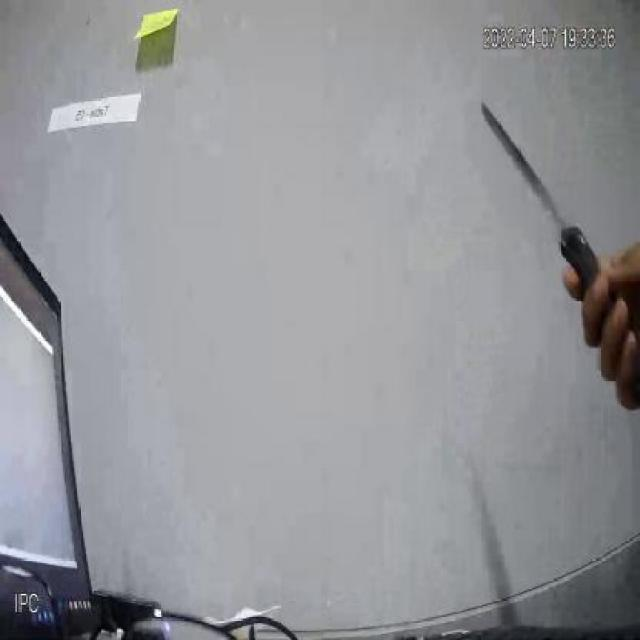-: (477, 88, 635, 363)
